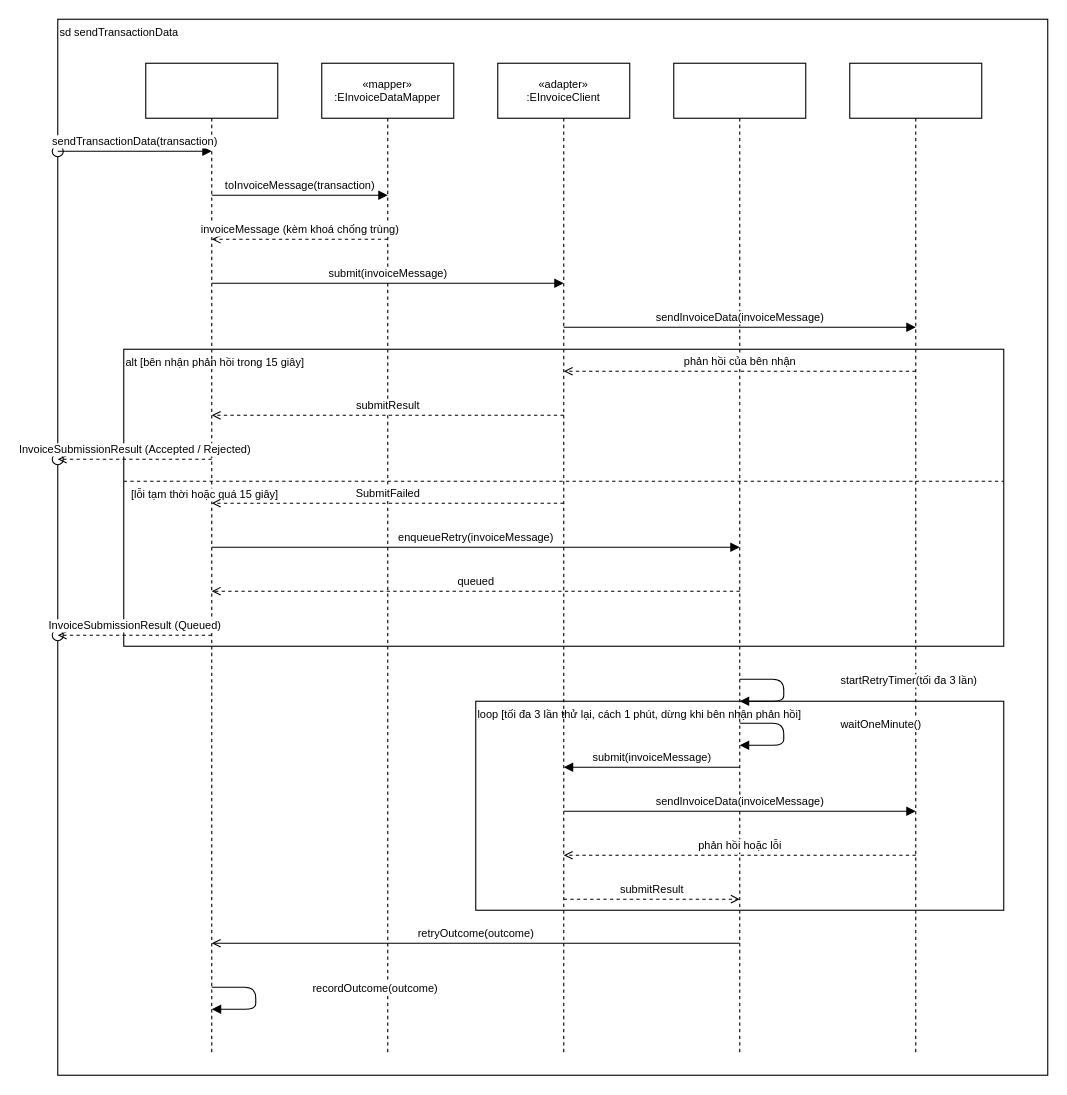
Image size: 1067x1095. Some labels were removed from this diagram. Each missing label, with the box of its shape:
«actor» Hệ thống hoá đơn điện tử (ACT-11): (849, 62, 982, 1053)
«facade» :EInvoiceGatewayFacade: (145, 62, 278, 1053)
«store» :EInvoiceRetryQueue: (673, 62, 806, 1053)
